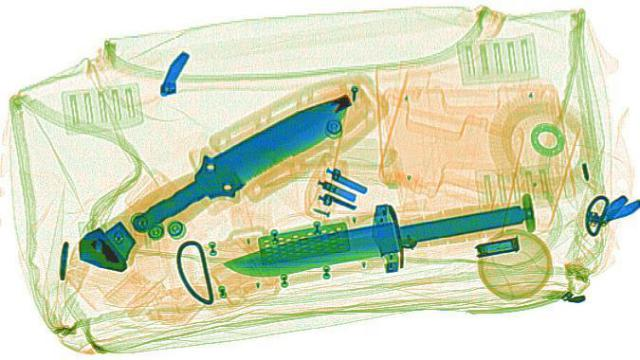Knife: (194, 171, 562, 298), (100, 77, 384, 237)
